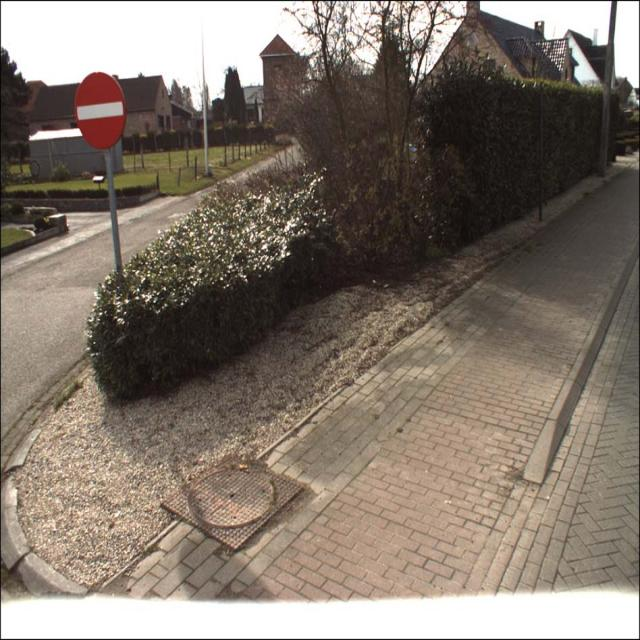girisyok: (75, 71, 125, 150)
